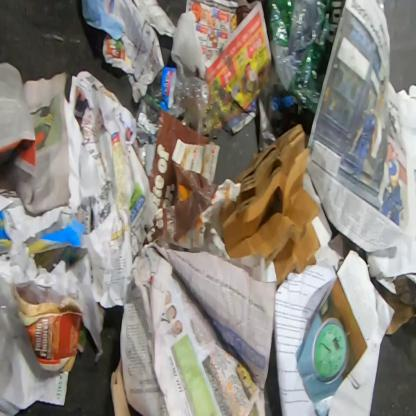cardboard: (218, 122, 321, 288), (12, 284, 82, 374), (381, 274, 415, 337), (110, 353, 132, 416)
rigid_plastic: (146, 66, 210, 125)
soft_plastic: (266, 0, 345, 117), (0, 275, 33, 398), (25, 216, 88, 256), (18, 280, 63, 304), (0, 210, 12, 257), (376, 0, 385, 18)
